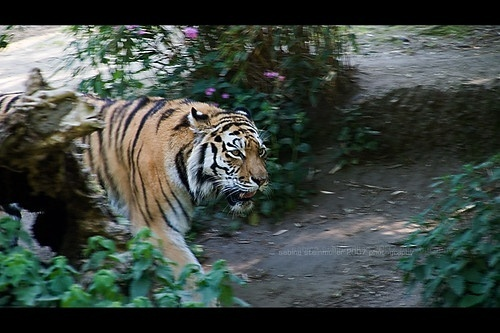tigre: (44, 91, 280, 294)
